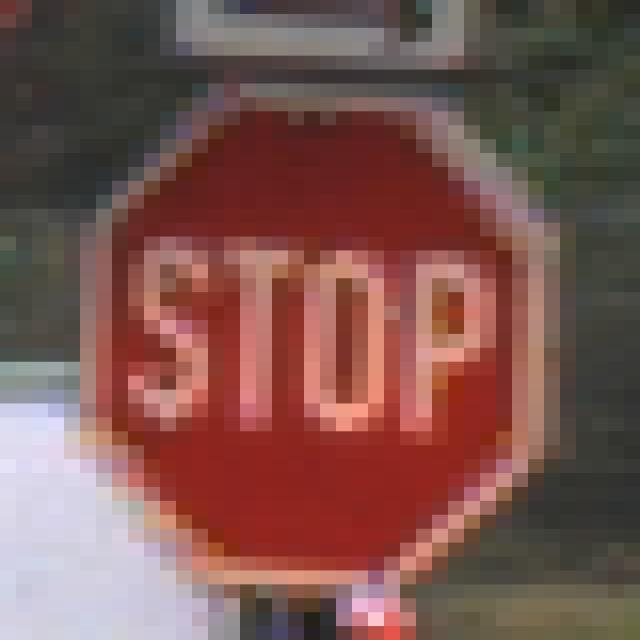STOP: (81, 71, 561, 572)
